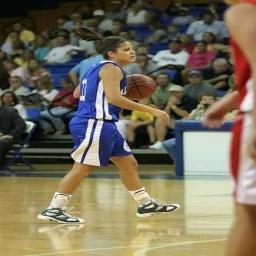ball: (120, 73, 156, 101)
human: (34, 36, 180, 226), (203, 0, 256, 256)
